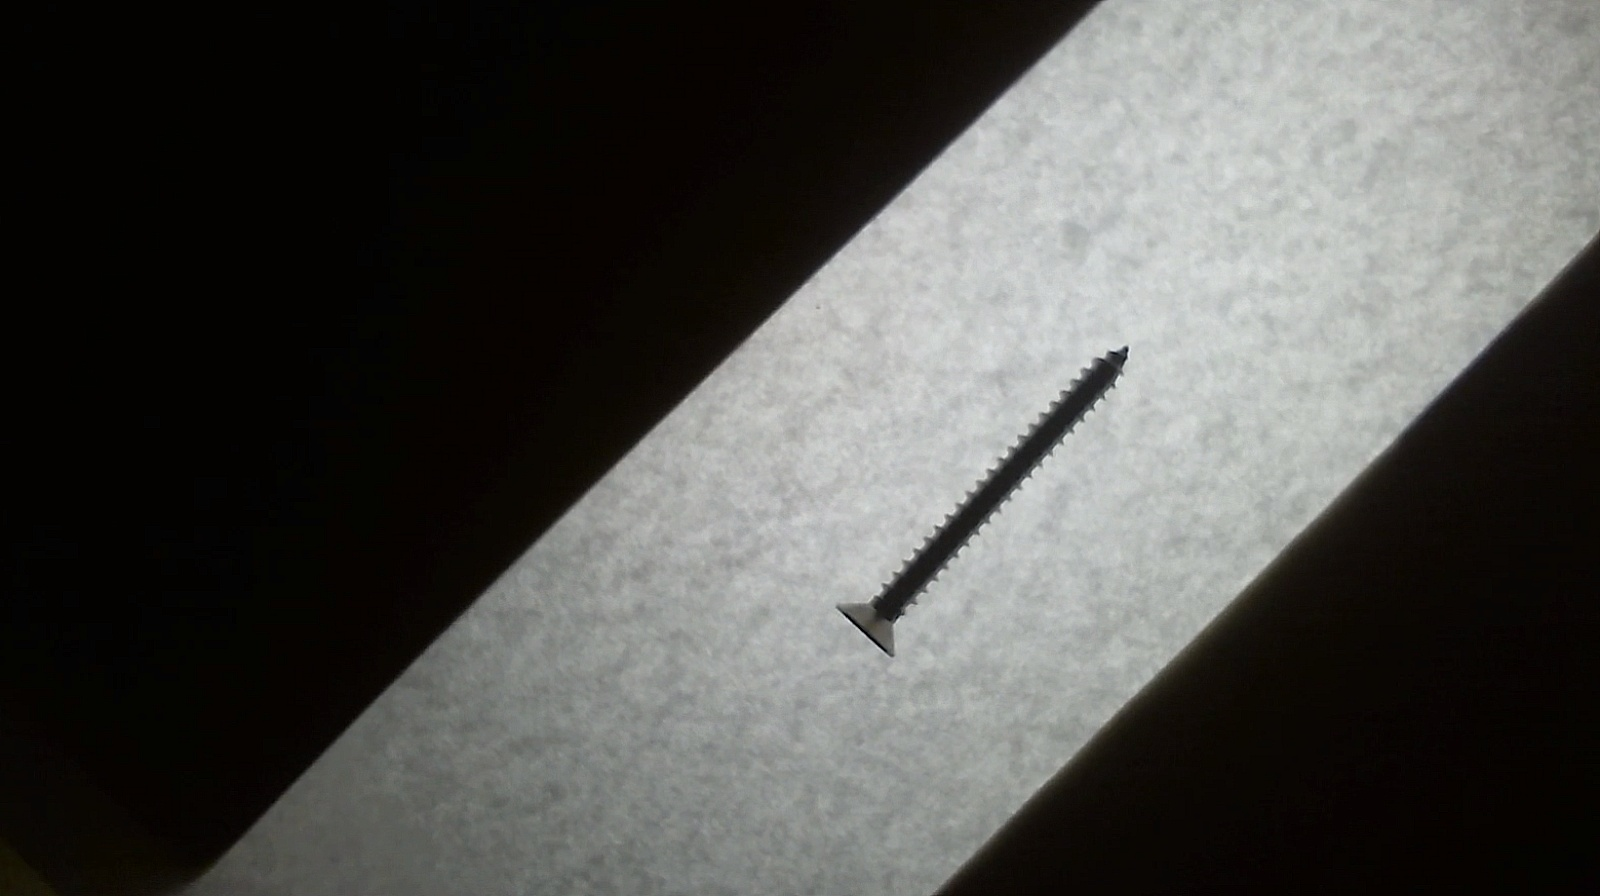S002: (827, 330, 1142, 675)
